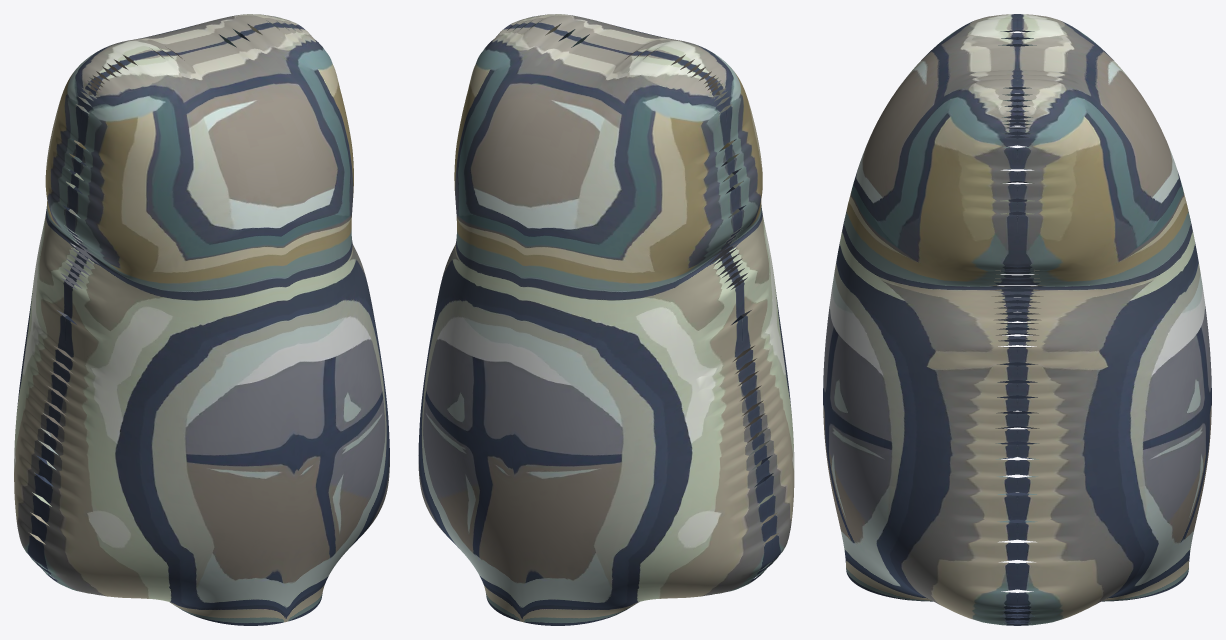
The model's file is stacked_control_panel.glb.
3 renders of one model, left to right at view 1: azimuth 30°, elevation 25°; view 2: azimuth 150°, elevation 25°; view 3: azimuth 270°, elevation 25°, orthographic.
Visible parts, largest first — view 1: stacked_control_panel; view 2: stacked_control_panel; view 3: stacked_control_panel.
Part boxes in pixels (<box>): stacked_control_panel: <box>14,14,389,625</box>; stacked_control_panel: <box>418,14,794,625</box>; stacked_control_panel: <box>823,14,1211,625</box>.
Size of the model in its own units: 0.9835 by 1.47 by 1.
Materials: 1 (1 with a texture image).
